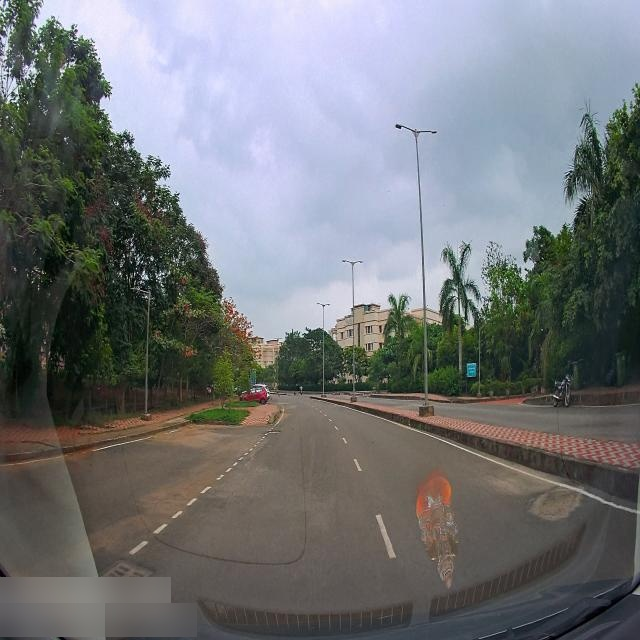pothole: (266, 424, 285, 441)
